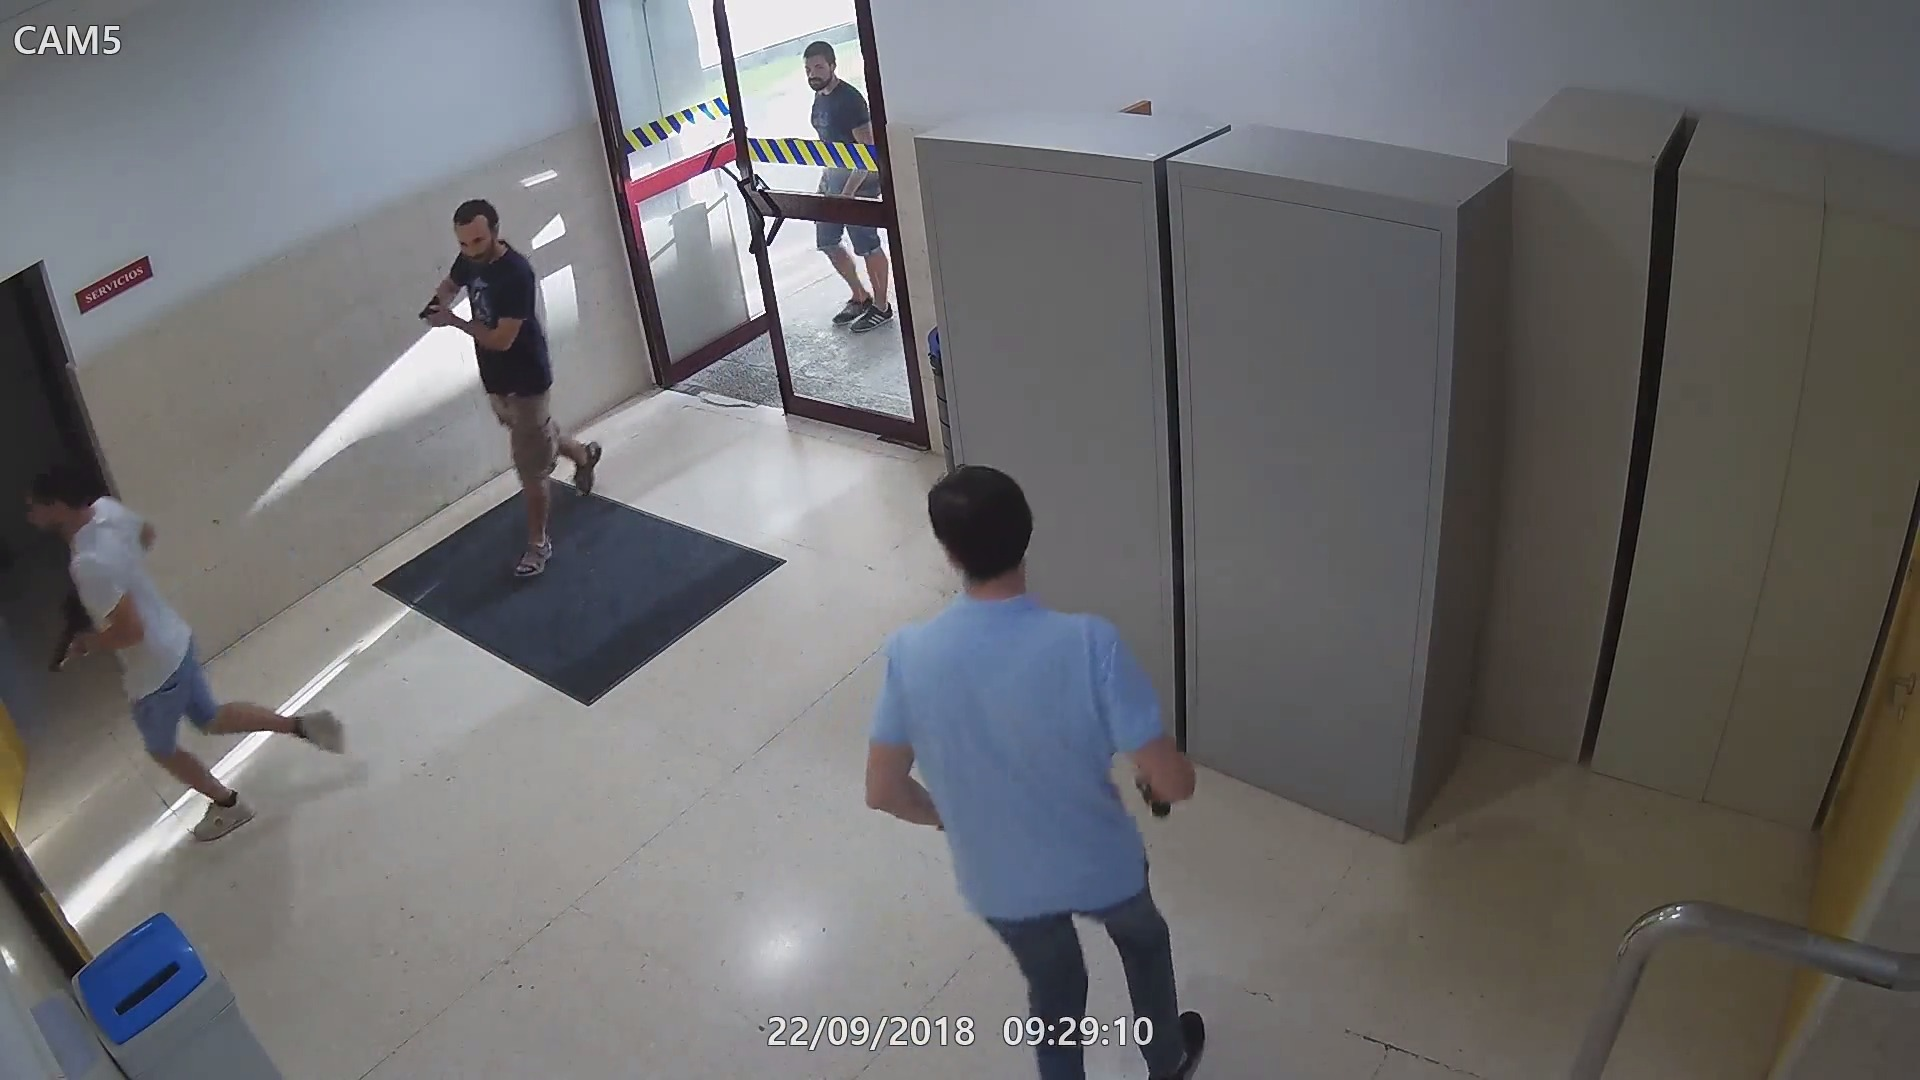Handgun: (415, 291, 452, 328)
Short_rifle: (50, 596, 98, 675)
